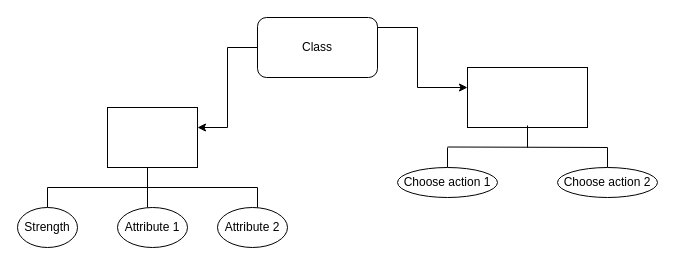
The diagram is 675 pixels wide and 265 high, and some of its shapes have lost their labels. Here are the shapes that lost their labels. From the top down, the centre of each, then its label:
(x=527, y=97): Functions (methods)
(x=152, y=137): Attributes (fields)
